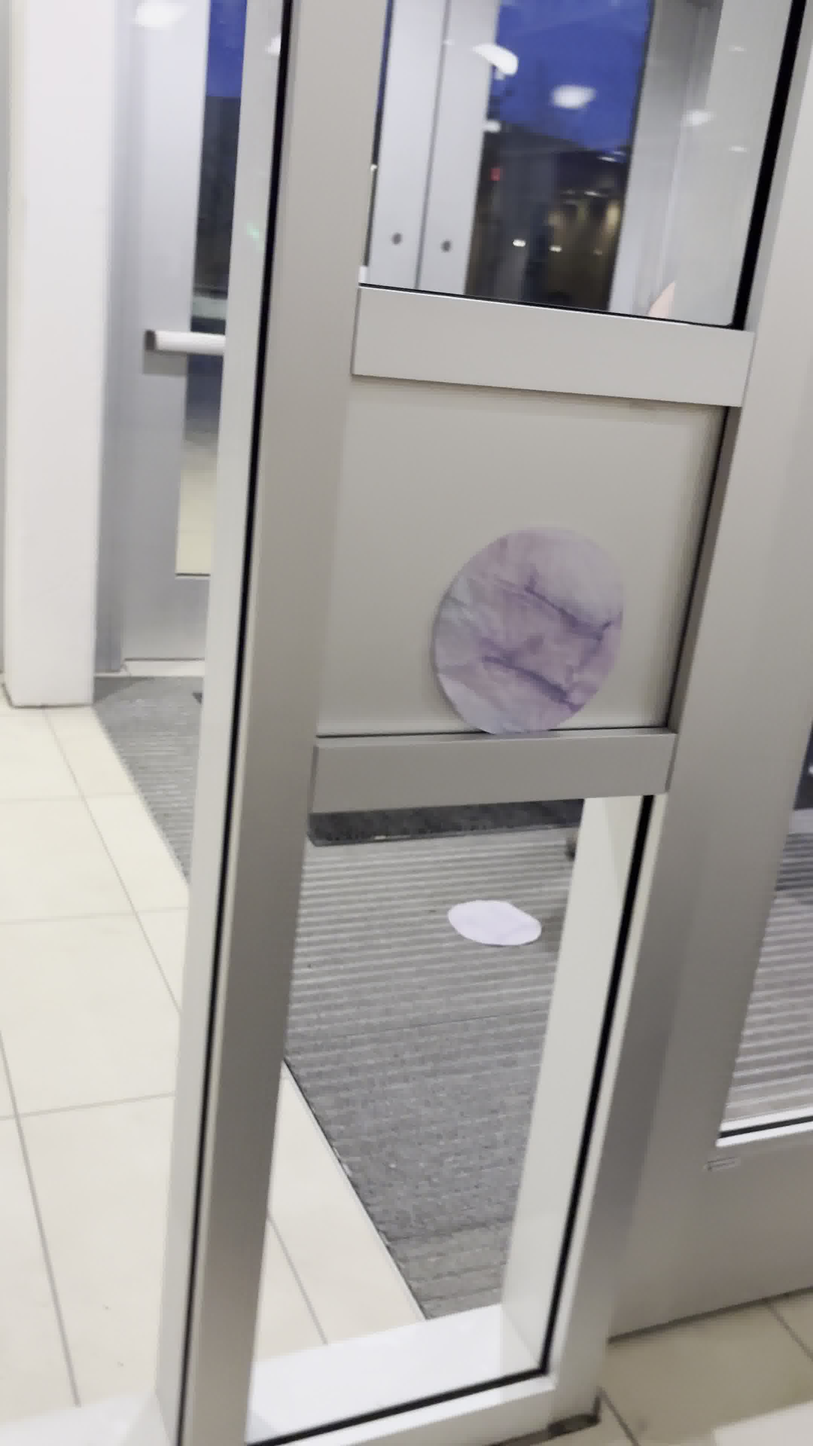Target: (430, 524, 626, 738)
